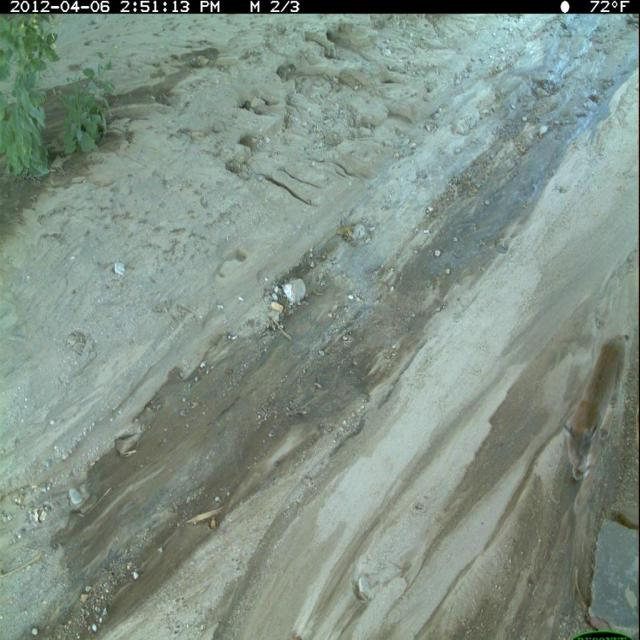bobcat: (559, 330, 633, 484)
